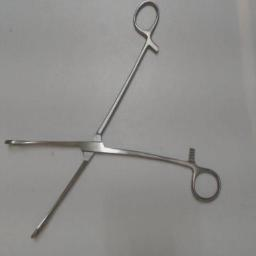Sponge Forceps: (2, 2, 224, 246)
